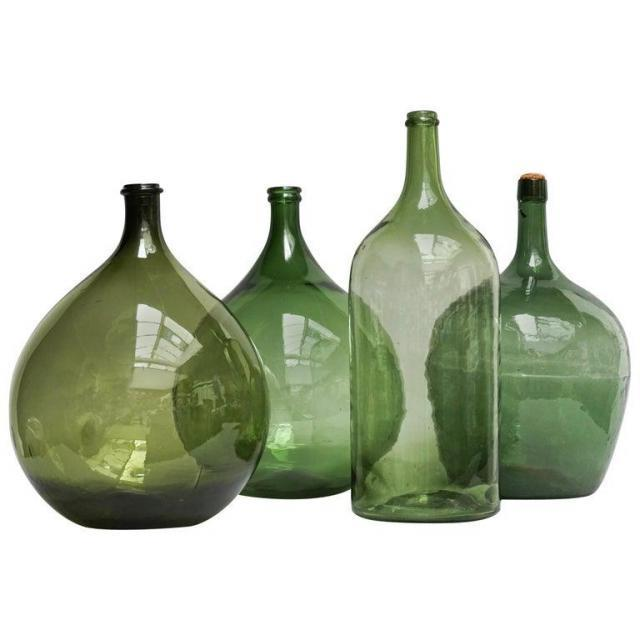glass: (8, 176, 262, 534), (346, 92, 506, 529)
